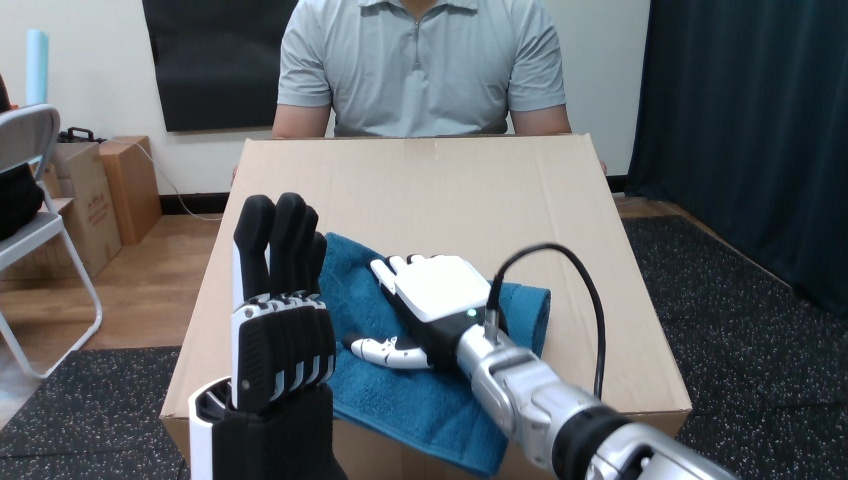left robot hand: (344, 243, 734, 479), (189, 193, 345, 478), (497, 249, 598, 395)
